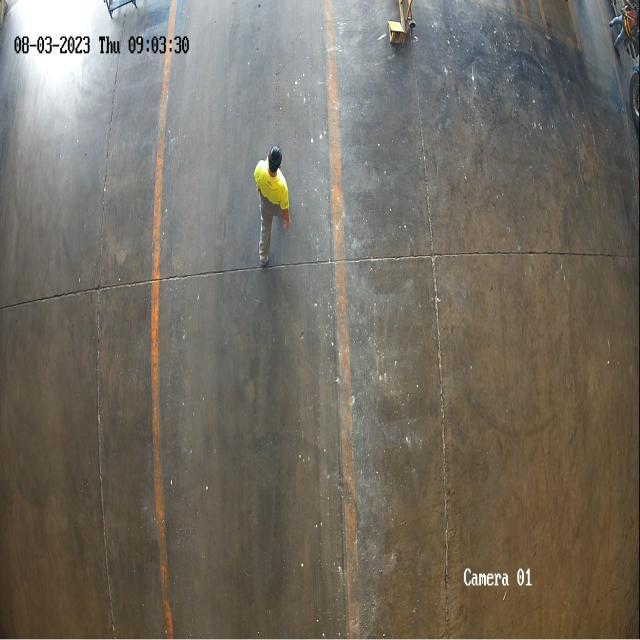person: (250, 134, 294, 274)
